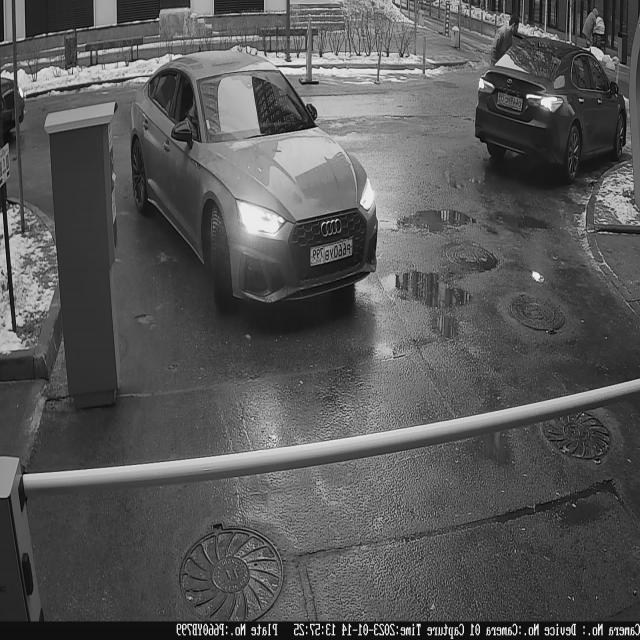car-plate-numbers: (310, 236, 356, 270)
